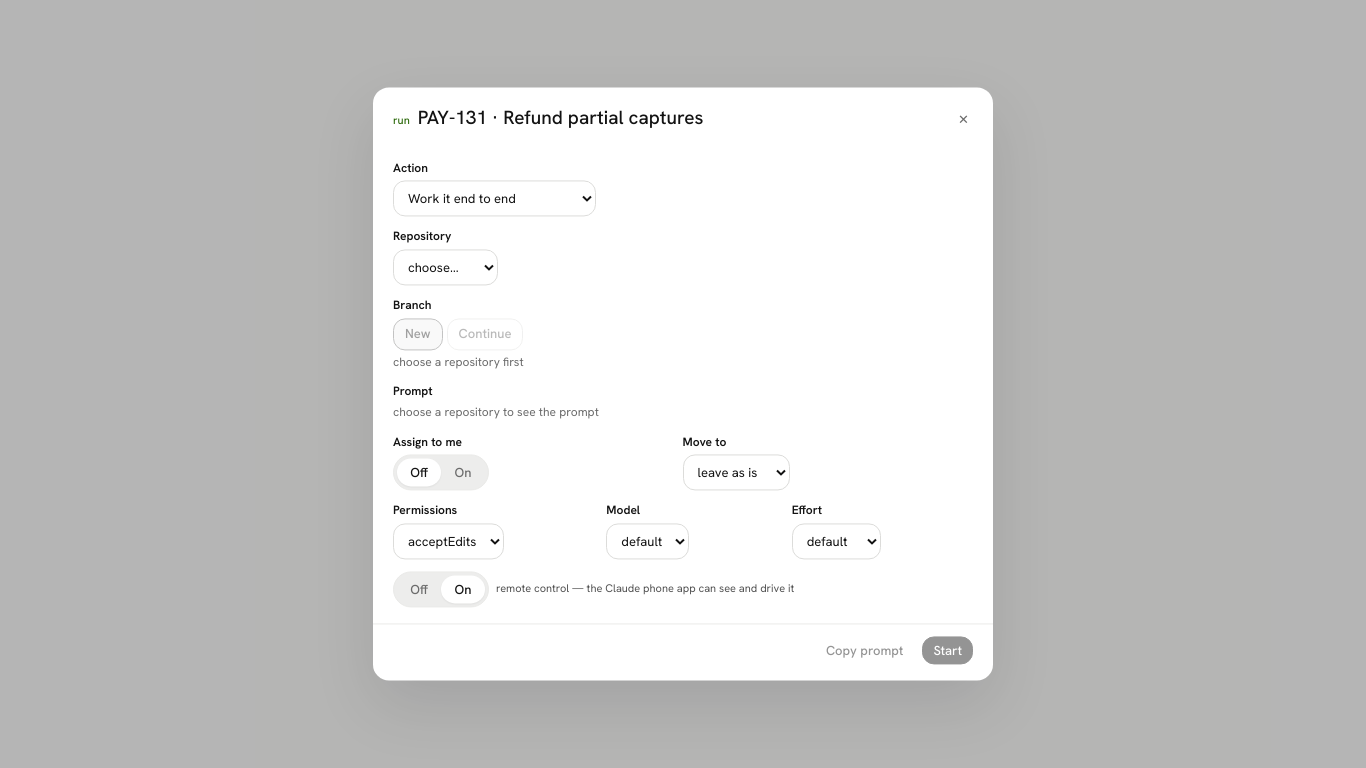
it: JiraLaunchSheet — the branch › puts A's defaults back after A → B → A, not B's, and asks refs for each repository it lands on
Check: the button "New" is disabled, box [393,318,443,350]
Select "~/pay" in the dropdown named "Repository": (446, 268) [393,250,498,286]
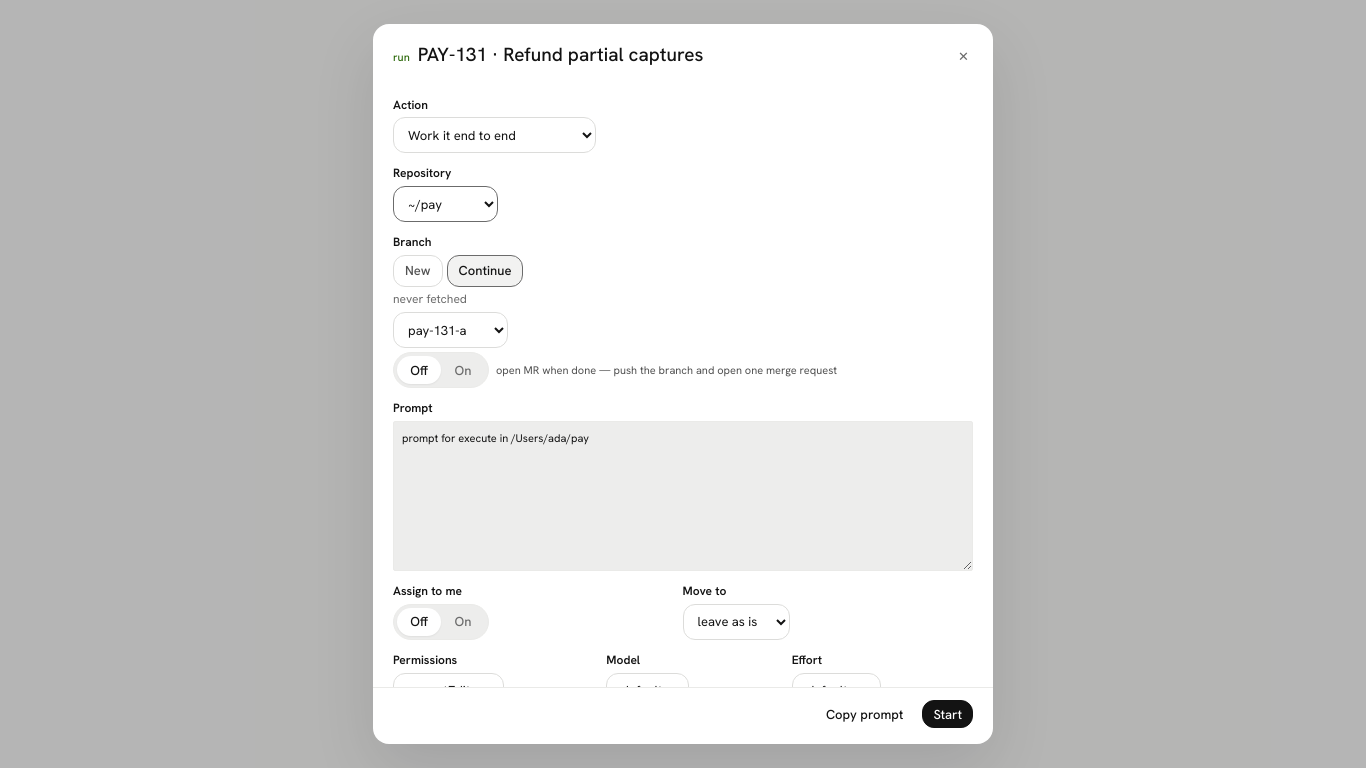
Check: the button "Continue" is shown, box [447,255,524,287]
Check: the dropdown named "Branch" shows "pay-131-a", box [393,312,508,348]
Select "~/pay-web" in the dropdown named "Repository": (446, 204) [393,186,498,222]
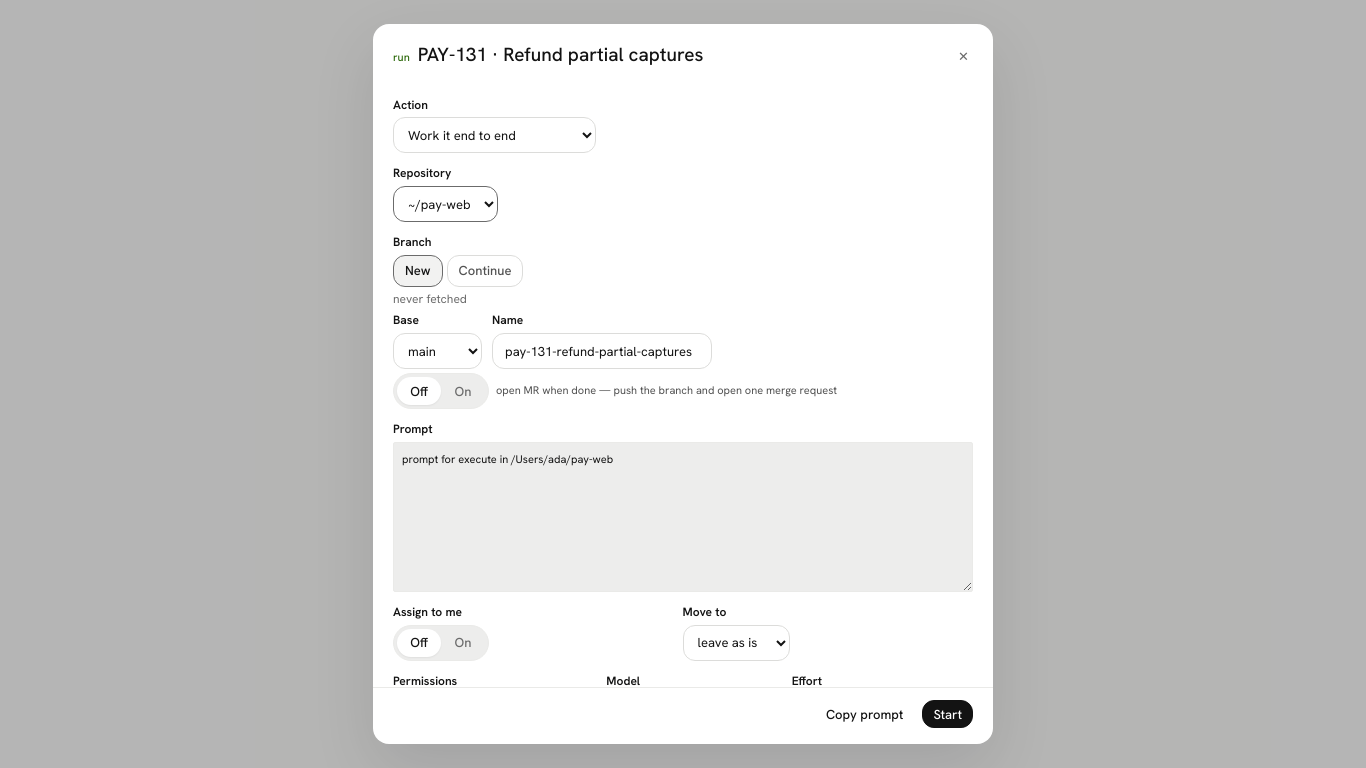
Check: the button "New" is shown, box [393,255,443,287]
Check: the field labelled "Name" holds "pay-131-refund-partial-captures", box [492,333,712,369]
Check: the dropdown labelled "Base" shows "main", box [393,333,482,369]
Select "~/pay" in the dropdown named "Repository": (446, 204) [393,186,498,222]
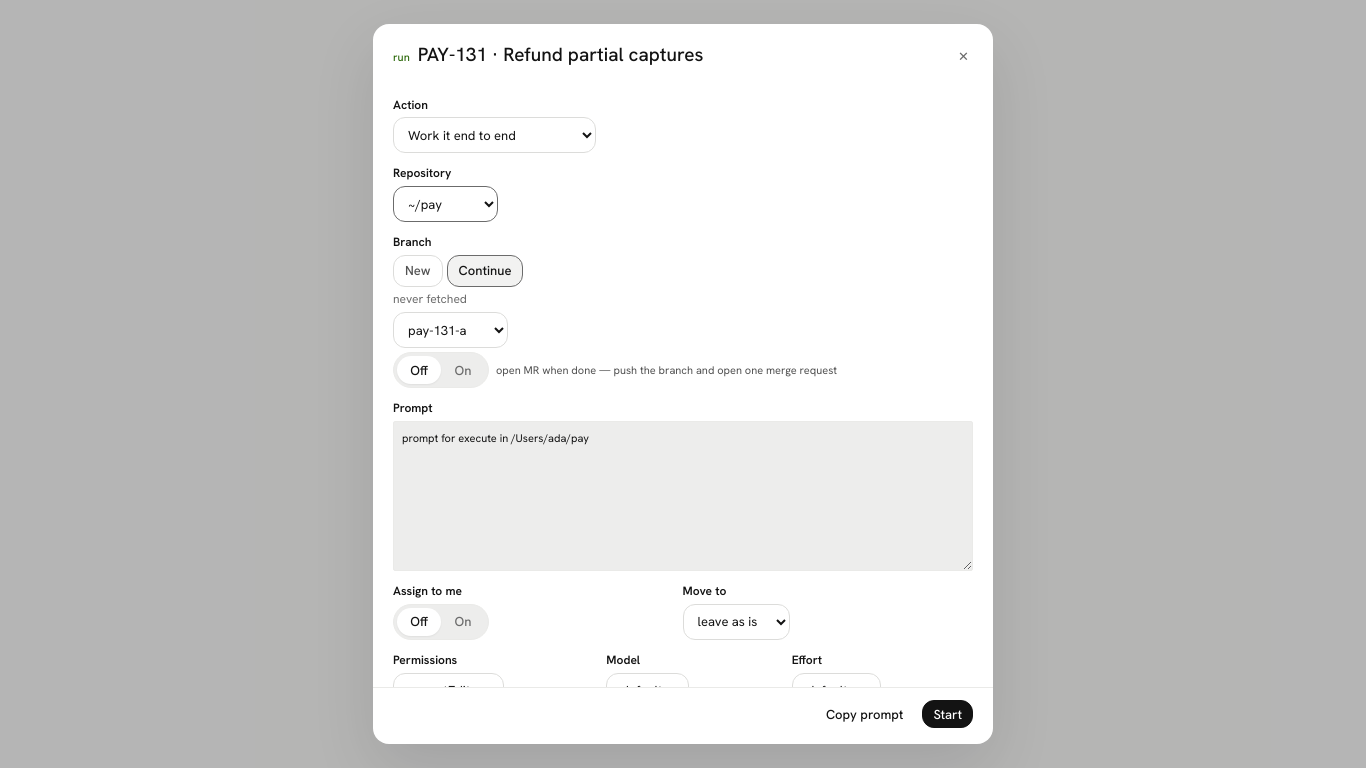
Check: the button "Continue" is shown, box [447,255,524,287]
Check: the dropdown named "Branch" shows "pay-131-a", box [393,312,508,348]
